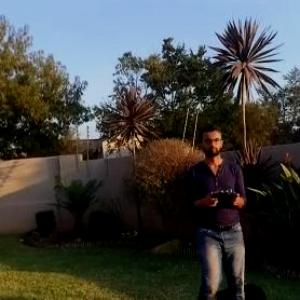follow: (184, 121, 251, 299)
null: (213, 279, 273, 299)
